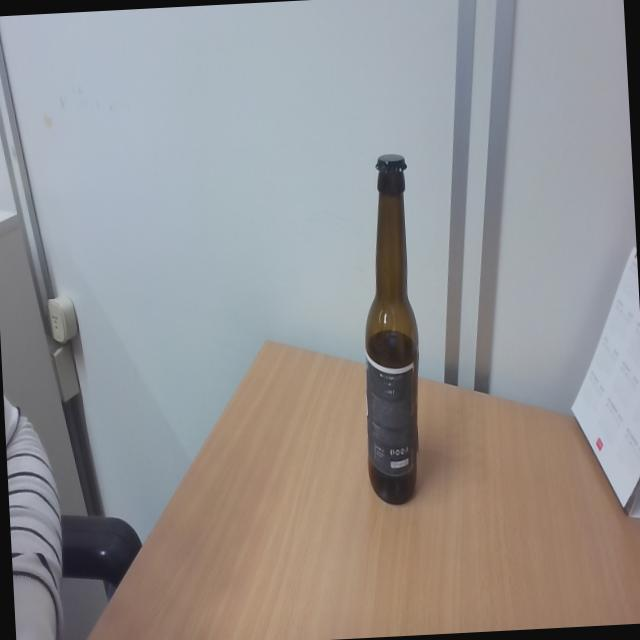Bottle: (352, 152, 428, 506)
Cap: (372, 152, 409, 175)
Label: (365, 352, 419, 484)
